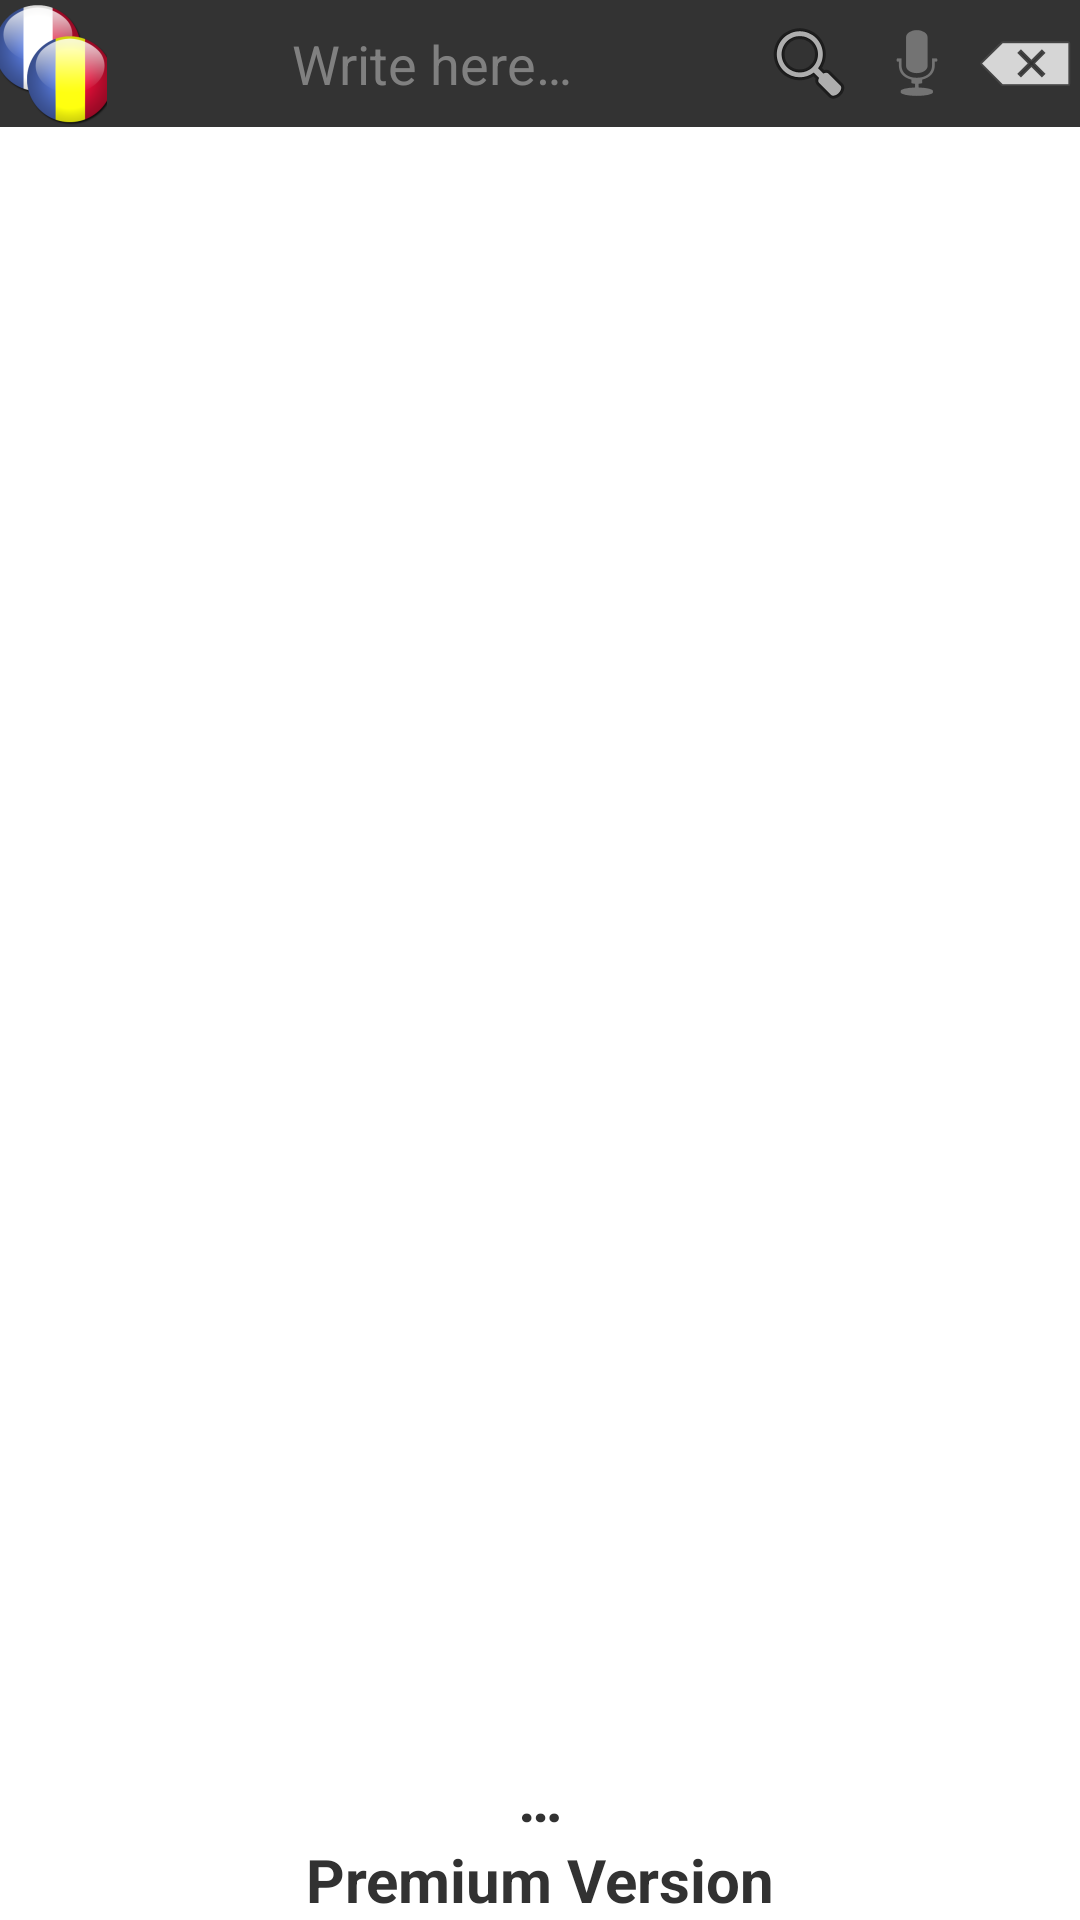

Where icons sit on this 1080x1920 app screen, as (x1, y1, x2, y2):
Clear: (982, 43, 1069, 85)
Search: (776, 30, 842, 97)
Voice search: (897, 30, 937, 96)
